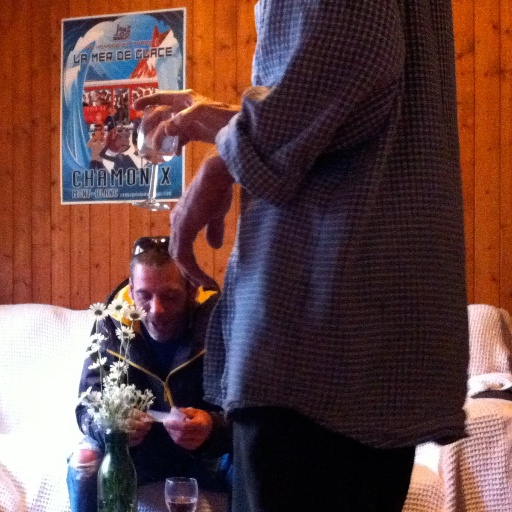hand: (169, 165, 234, 290), (122, 81, 226, 158), (162, 403, 213, 452), (122, 403, 156, 449), (98, 135, 103, 143), (91, 137, 96, 143)
